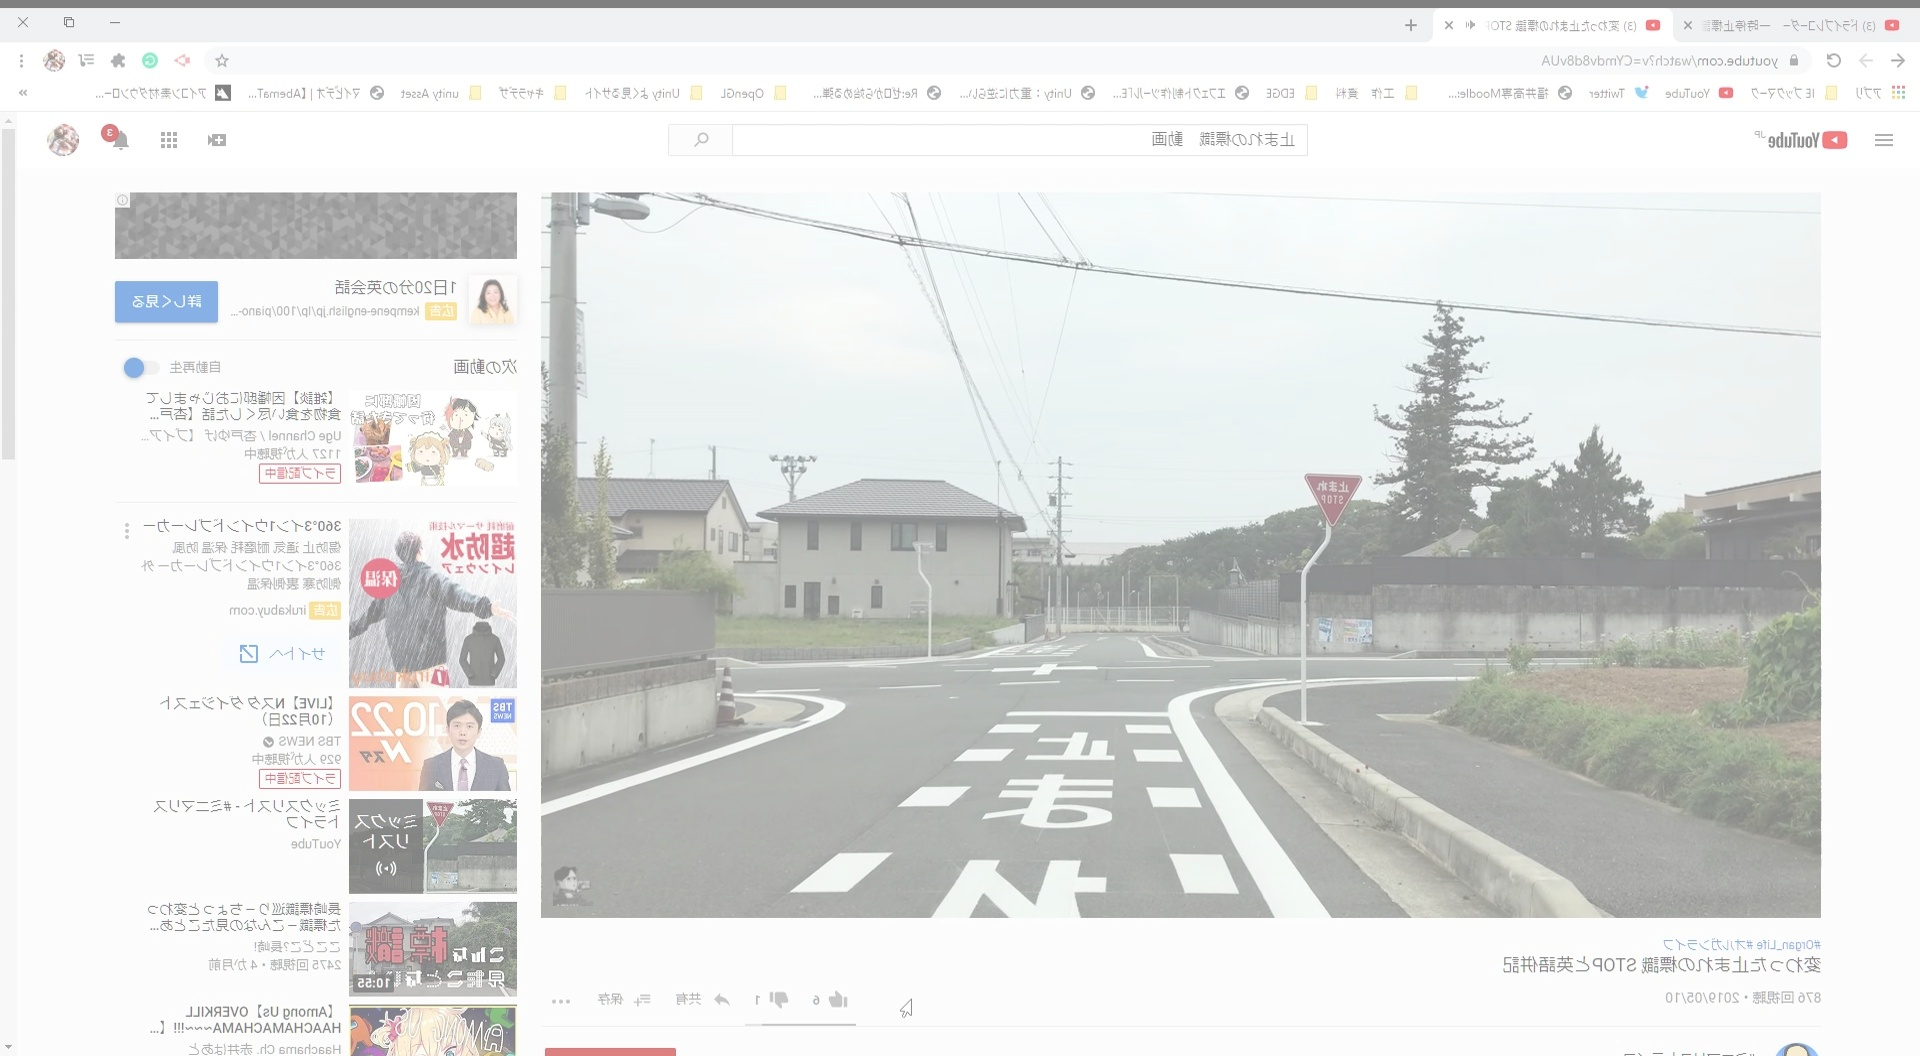Regulatory_sign_triangle: (1304, 467, 1364, 532)
